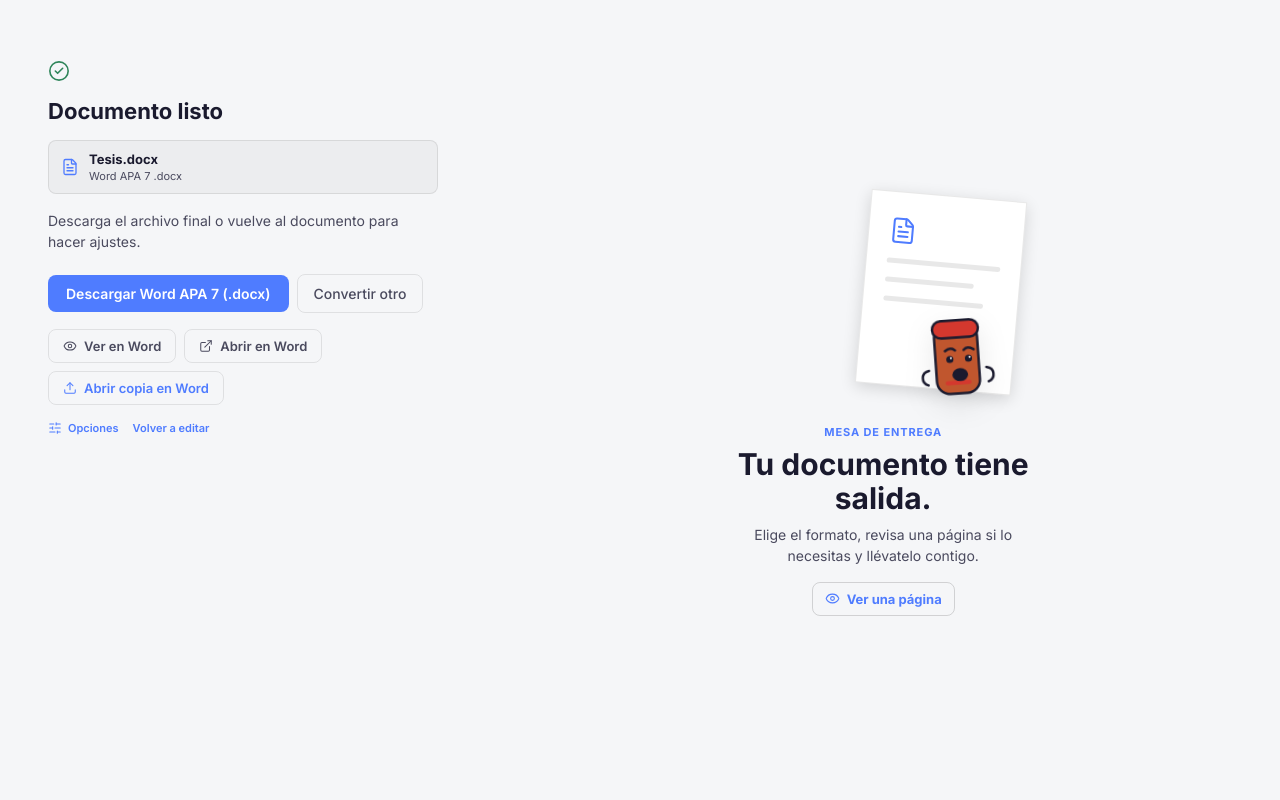
Scenario: la copia de trabajo en Word › un aviso de cambios sin guardar NO alcanza: tiene que haber dos botones
What coordinates should you click on to do the following:
click the button "Abrir copia en Word"
I would click on:
 (136, 388)
Its box is [48, 371, 224, 405].
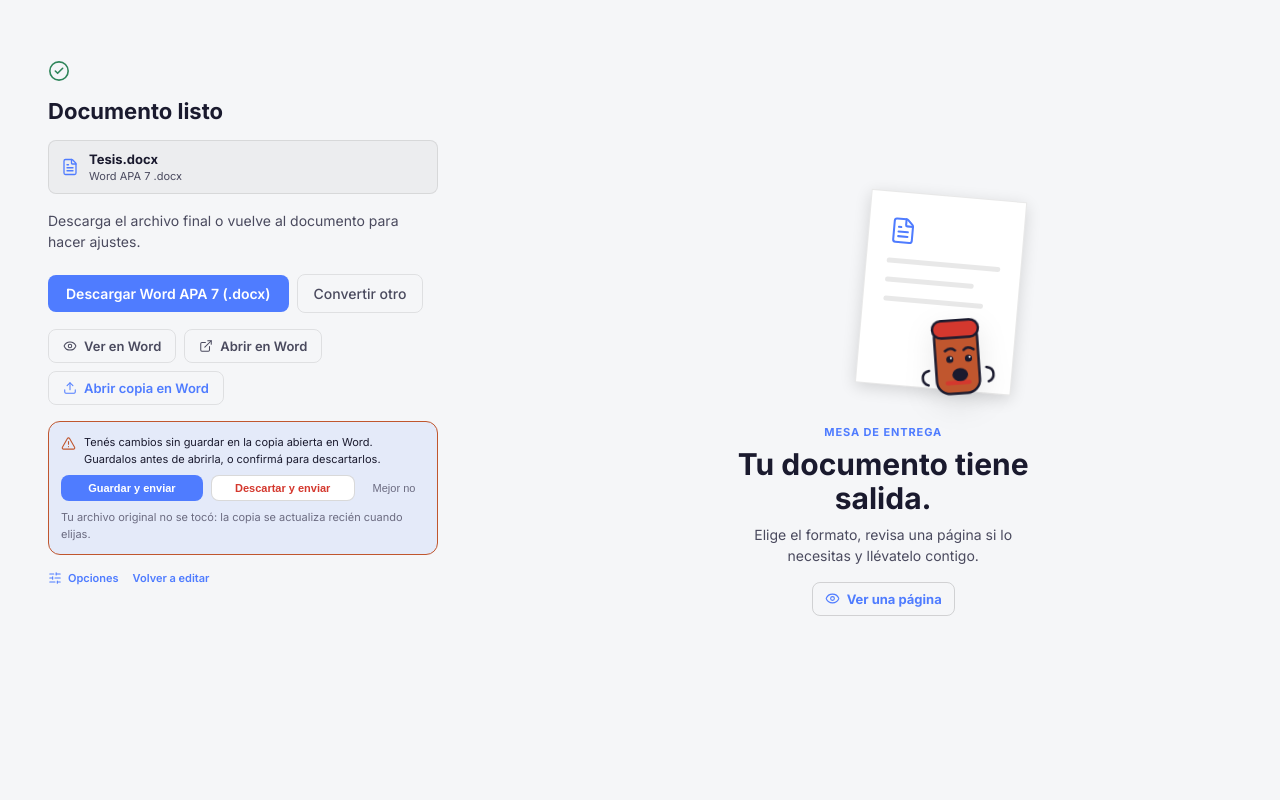
Expected: the dialog with test id "confirmacion-sin-guardar" is shown, [48, 421, 438, 555]
Expected: the button "Guardar y enviar" is shown, [61, 475, 203, 501]
Expected: the button "Descartar y enviar" is shown, [211, 475, 355, 501]
